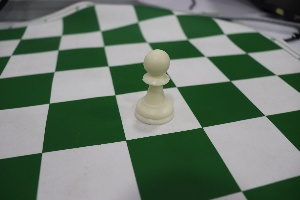white_pawn: (127, 36, 184, 131)
